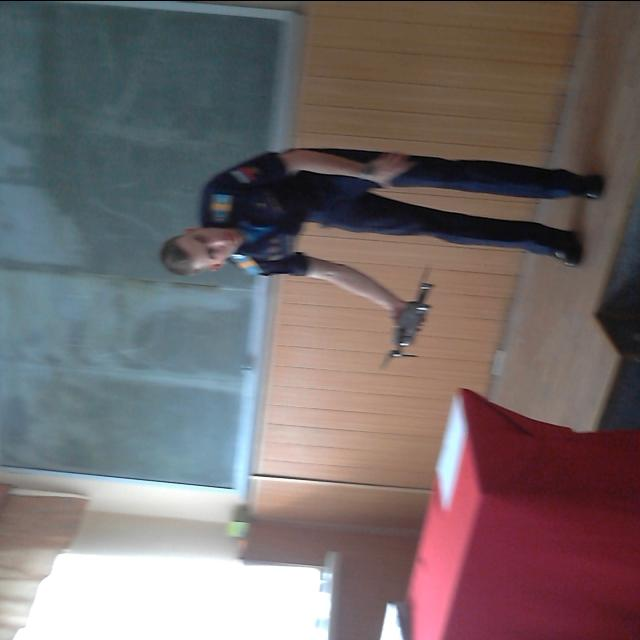drone: (366, 265, 446, 375)
